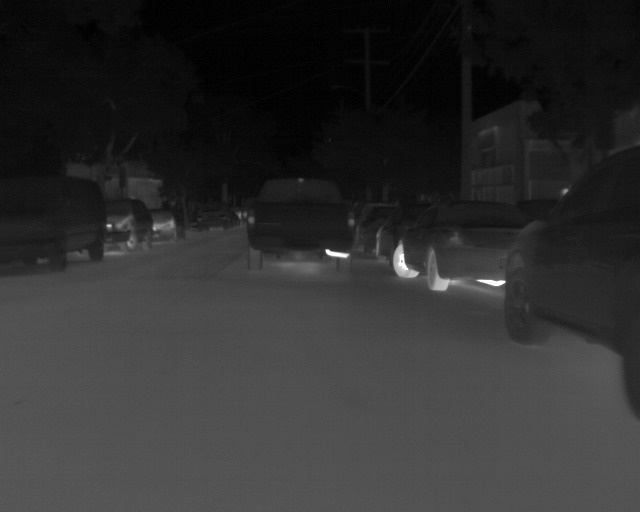vehicle: (504, 148, 640, 408), (393, 195, 542, 288), (3, 174, 106, 273), (247, 180, 354, 270), (100, 193, 153, 255), (152, 202, 187, 243)
